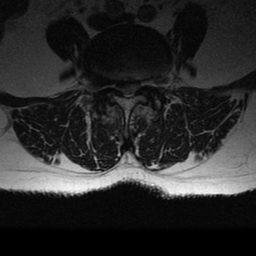CCS_severe_stenosis: (125, 76, 131, 102)
LFS_stenosis: (139, 71, 146, 93)
LLS_stenosis: (131, 75, 139, 98)
RFS_stenosis: (110, 75, 119, 95)
RLS_severe_stenosis: (118, 75, 125, 99)
